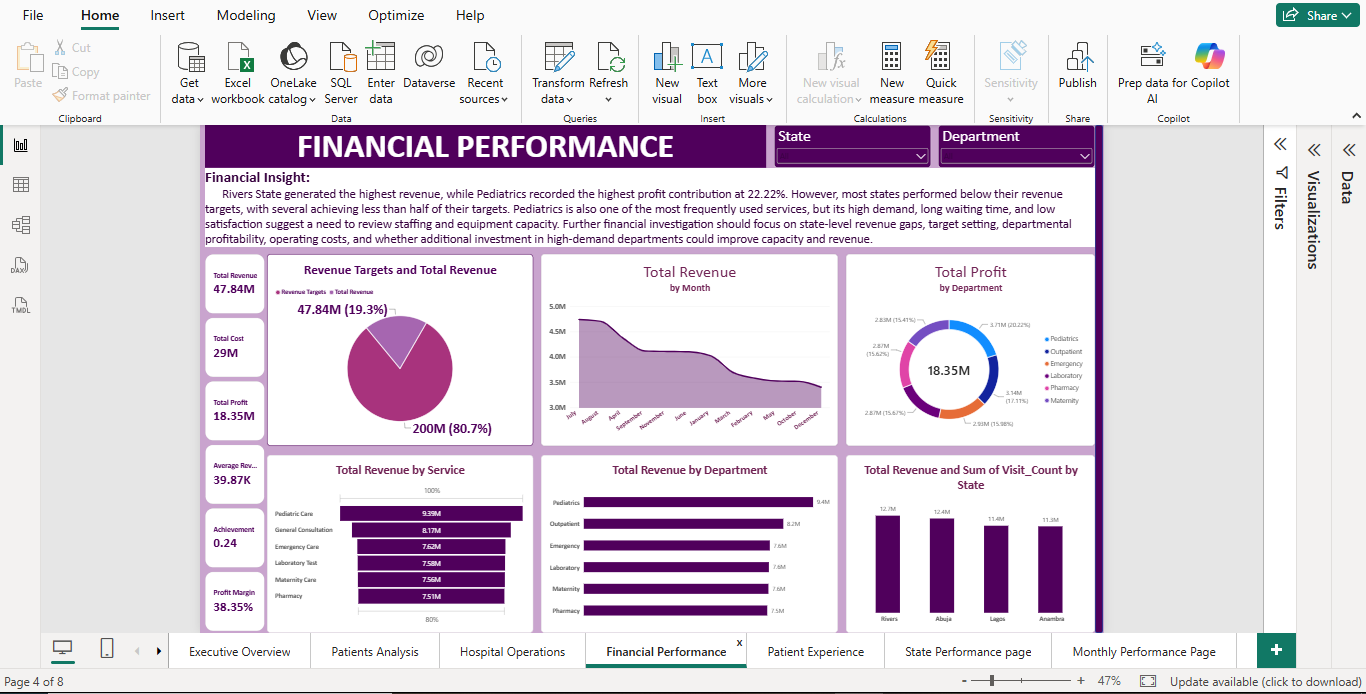

Layout of this report page (visuals, bound fields, positions):
{"tool":"powerbi","page":{"name":"Financial Performance ","canvas":[1920,1080],"ordinal":3},"visuals":[{"type":"textbox","box":[10.6,0,1192.7,91.4],"z":0},{"type":"cardVisual","fields":{"Data":["All Measures.Total Revenue","All Measures.Total Cost","All Measures.Total Profit","All Measures.Average Revenue per Patients","All Measures.Achievement","All Measures.Profit Margin"]},"box":[10.6,274.3,127.6,805.7],"z":1000},{"type":"clusteredColumnChart","fields":{"Category":["Patient_Visits.State"],"Y":["All Measures.Total Revenue"]},"box":[1373.4,701.6,529.4,378.4],"z":2000},{"type":"clusteredBarChart","fields":{"Category":["Patient_Visits.Department"],"Y":["All Measures.Total Revenue"]},"box":[725,701.6,631.4,378.4],"z":3000},{"type":"funnel","fields":{"Category":["Patient_Visits.Service"],"Y":["All Measures.Total Revenue"]},"box":[142.4,701.6,565.5,378.4],"z":4000},{"type":"donutChart","fields":{"Category":["Patient_Visits.Department"],"Y":["All Measures.Total Profit"]},"box":[1373.4,274.3,529.4,408.2],"z":5000},{"type":"stackedAreaChart","fields":{"Category":["Date_Table.Month"],"Y":["All Measures.Total Revenue"]},"box":[725,274.3,631.4,408.2],"z":6000},{"type":"pieChart","fields":{"Y":["All Measures.Revenue Targets","All Measures.Total Revenue"]},"box":[142.4,274.3,565.5,408.2],"z":7000},{"type":"slicer","fields":{"Values":["Patient_Visits.State"]},"box":[1220.3,0,333.8,91.4],"z":8000},{"type":"slicer","fields":{"Values":["Patient_Visits.Department"]},"box":[1569,0,333.8,91.4],"z":9000},{"type":"shape","box":[1902.8,0,17,1080],"z":10000},{"type":"textbox","box":[11,91,1193,183],"z":11000},{"type":"textbox","box":[10.6,91.4,1892.1,168],"z":12000}]}

Visuals, with their boxes on the page's 1920x1080 design canvas (x1, y1, x2, y2). These are canvas units, not pixel positions in the 1366x694 screenshot, which may show the page scaled, cropped or inside an application window:
textbox: 11/0/1203/91
cardVisual - All Measures.Total Revenue x All Measures.Total Cost: 11/274/138/1080
clusteredColumnChart - Patient_Visits.State x All Measures.Total Revenue: 1373/702/1903/1080
clusteredBarChart - Patient_Visits.Department x All Measures.Total Revenue: 725/702/1356/1080
funnel - Patient_Visits.Service x All Measures.Total Revenue: 142/702/708/1080
donutChart - Patient_Visits.Department x All Measures.Total Profit: 1373/274/1903/682
stackedAreaChart - Date_Table.Month x All Measures.Total Revenue: 725/274/1356/682
pieChart - All Measures.Revenue Targets x All Measures.Total Revenue: 142/274/708/682
slicer - Patient_Visits.State: 1220/0/1554/91
slicer - Patient_Visits.Department: 1569/0/1903/91
shape: 1903/0/1920/1080
textbox: 11/91/1204/274
textbox: 11/91/1903/259
